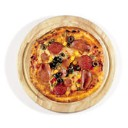pepperonipizza: (33, 28, 104, 100)
